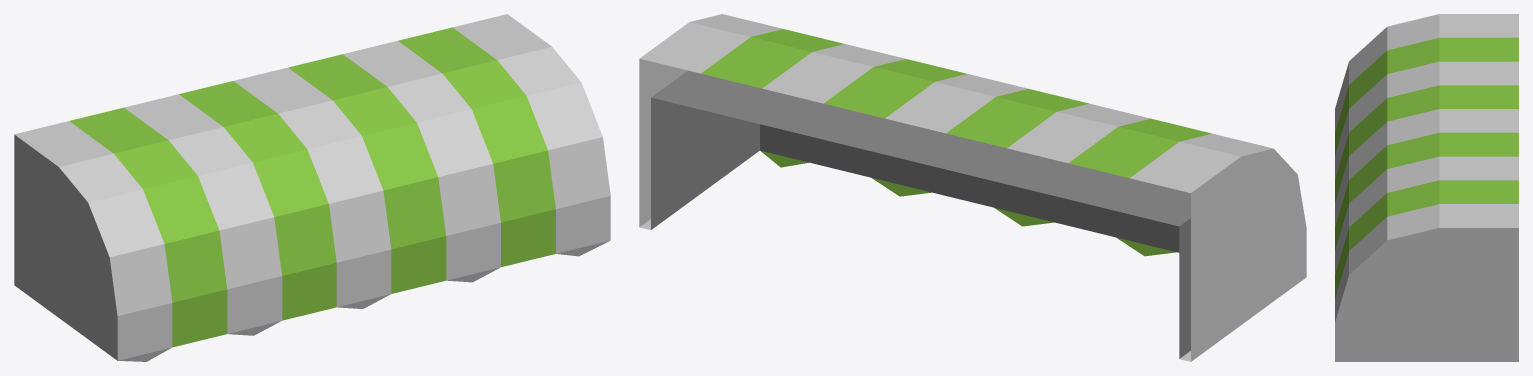
File: awning.fbx
The picture shows the model from 3 angles, left to right: view 1: azimuth 30°, elevation 25°; view 2: azimuth 150°, elevation 25°; view 3: azimuth 270°, elevation 25°; orthographic projection. The views are drawn at different scales.
Parts seen in each view (by area): view 1: awning; view 2: awning; view 3: awning.
Part boxes in pixels (bbox=[...]): awning: bbox=[14, 14, 610, 361]; awning: bbox=[639, 14, 1306, 361]; awning: bbox=[1335, 14, 1518, 361].
Size of the model in its own units: 225 by 69.9 by 81.68.
